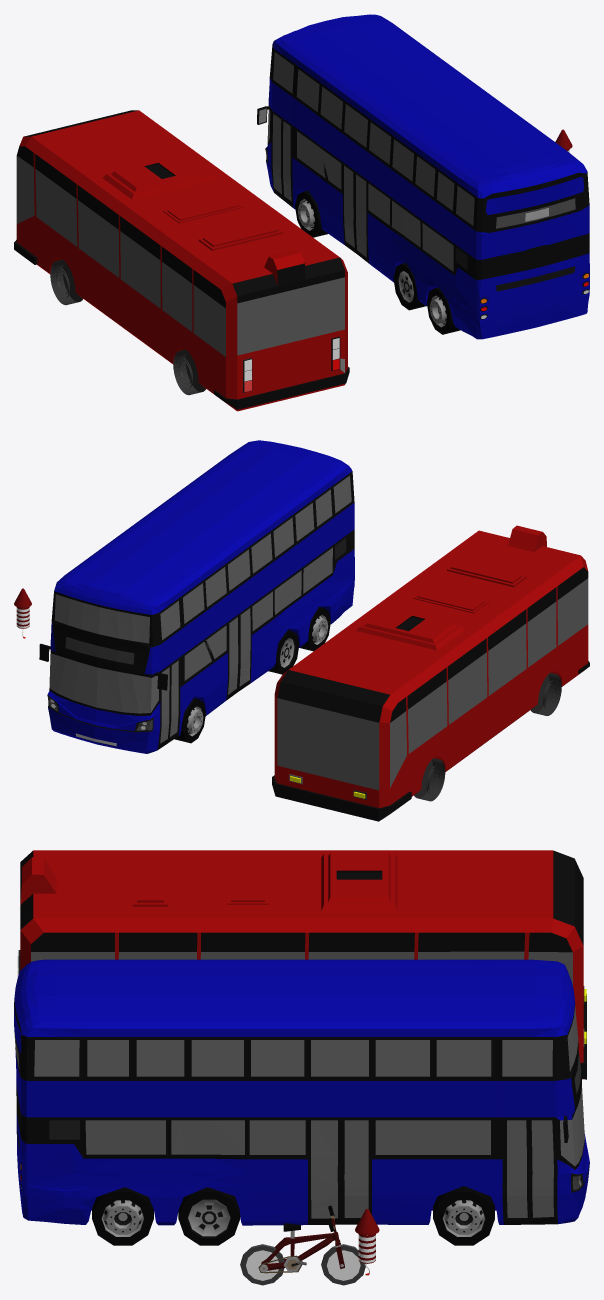
The model's file is vehicles& Rocket.fbx.
The picture shows the model from 3 angles, top to bottom: view 1: azimuth 30°, elevation 25°; view 2: azimuth 150°, elevation 25°; view 3: azimuth 270°, elevation 25°; orthographic projection. The views are drawn at different scales.
Visible parts, largest first — view 1: double_deckerbus, BUS; view 2: double_deckerbus, BUS, Cone001; view 3: double_deckerbus, BUS, bicycle, Cone001.
Boxes of the visible parts, x1,y1,x2,y2 form: double_deckerbus: [257, 14, 589, 339]; BUS: [14, 110, 349, 411]; double_deckerbus: [39, 440, 354, 753]; BUS: [272, 525, 589, 821]; Cone001: [14, 588, 31, 638]; double_deckerbus: [14, 959, 589, 1245]; BUS: [17, 850, 586, 1079]; bicycle: [240, 1205, 366, 1285]; Cone001: [355, 1209, 379, 1275].
Bounding box in the file's own units: 10.96 × 8.84 × 3.9.
Materials: 9 (3 with a texture image).
